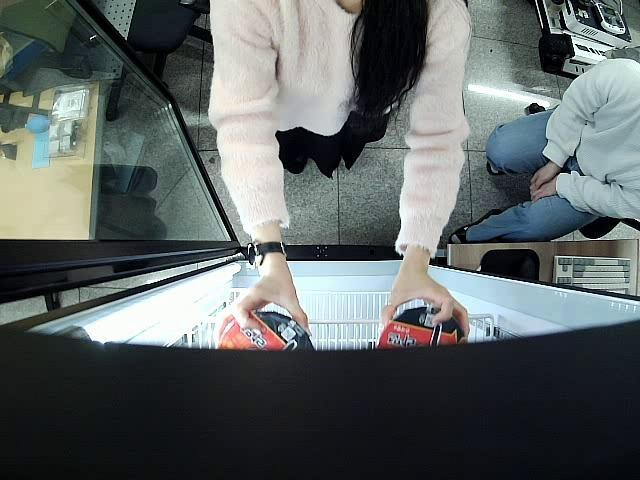01_ShinRamen_L: (214, 312, 314, 354), (372, 305, 468, 348)
